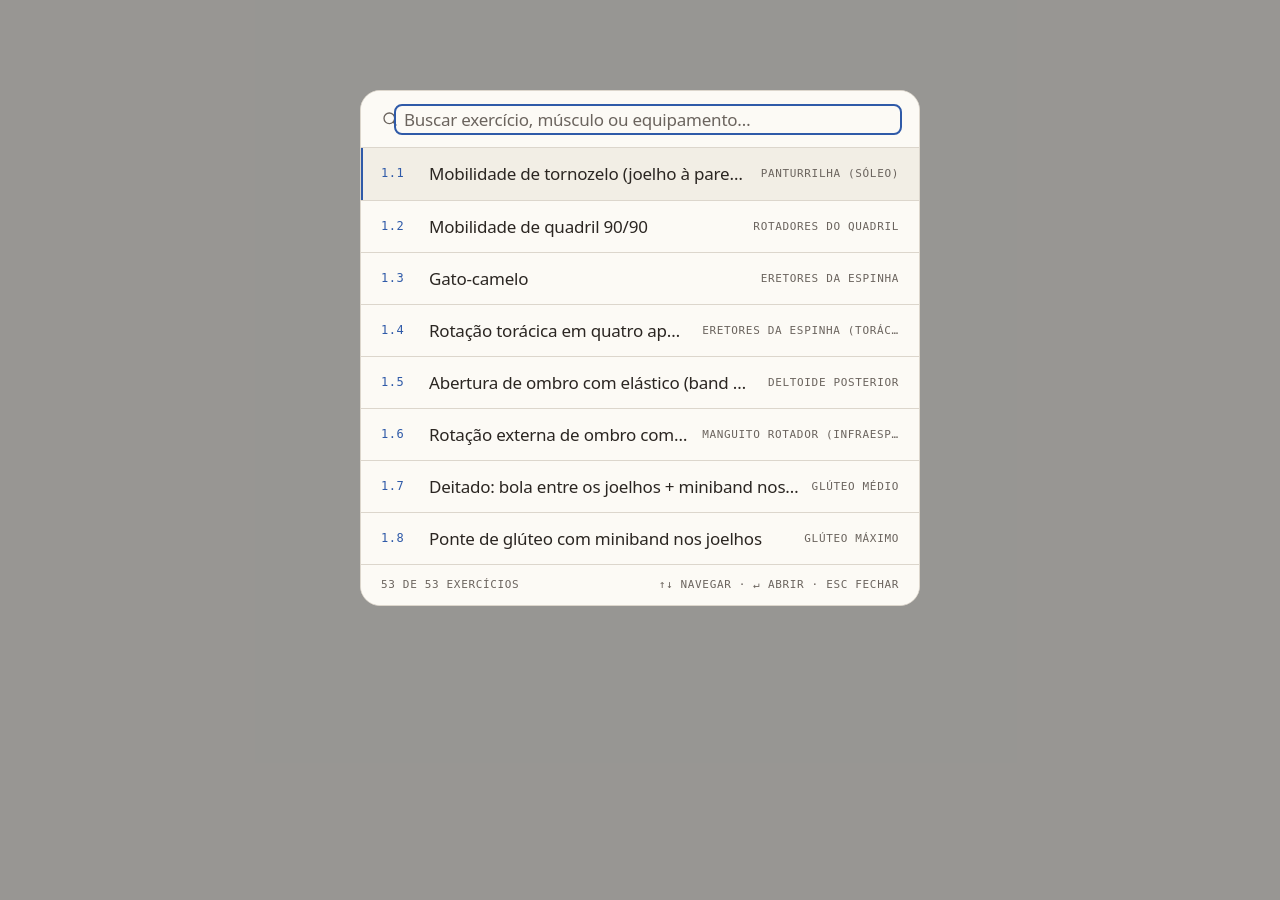
Test case: Busca › filtra por músculo
Step 1. Type "sóleo" into the dropdown → (648, 119), box [398, 108, 898, 130]
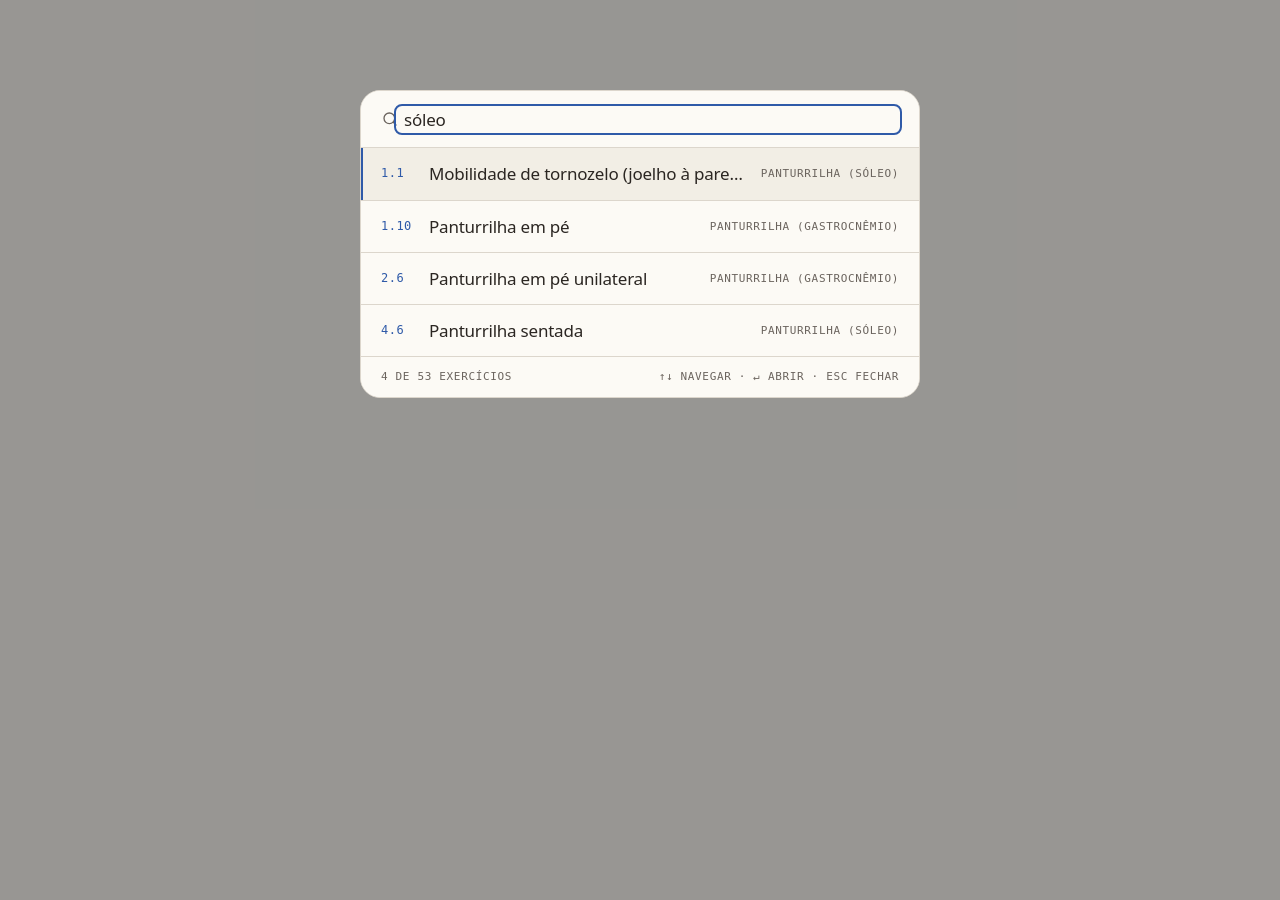
Check: the text "Panturrilha sentada" is shown, box [429, 318, 583, 342]
